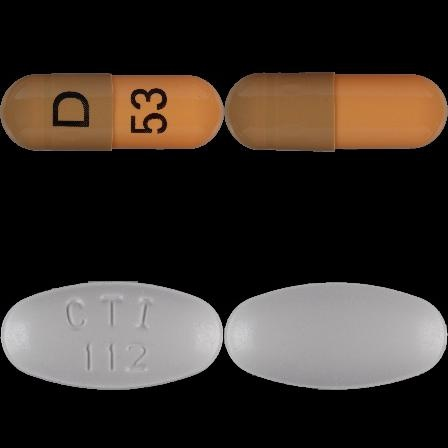51655-677: (0, 0, 224, 224)
